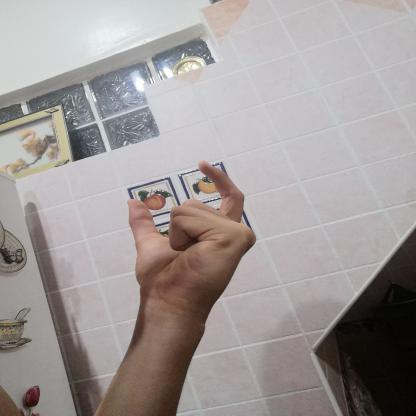NOON: (112, 152, 272, 317)
